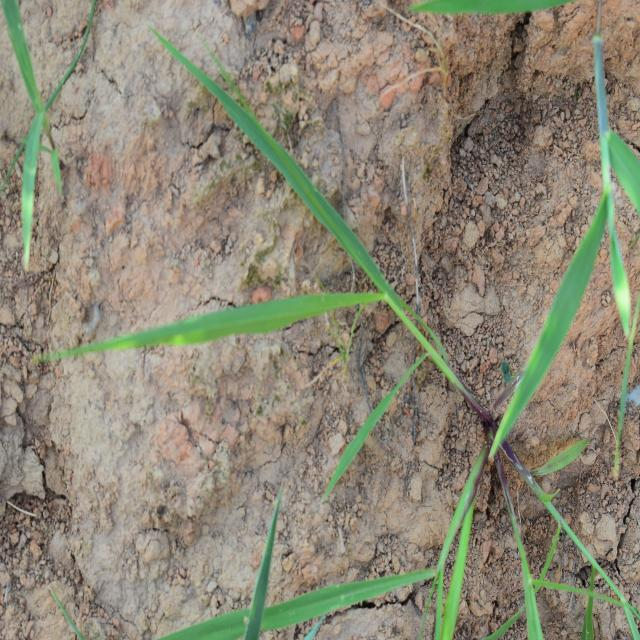green_foxtail: (136, 128, 448, 424)
